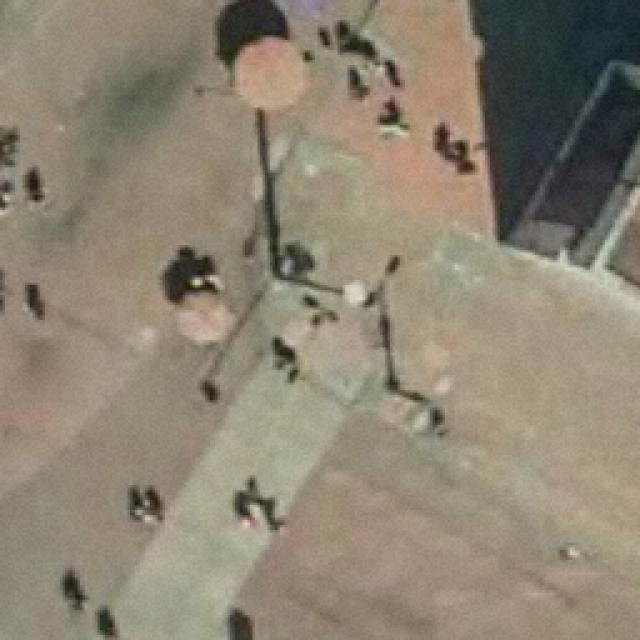vendedor_ambulante: (234, 31, 308, 114), (171, 290, 239, 346)
